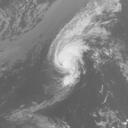cyclone: (46, 14, 87, 82)
